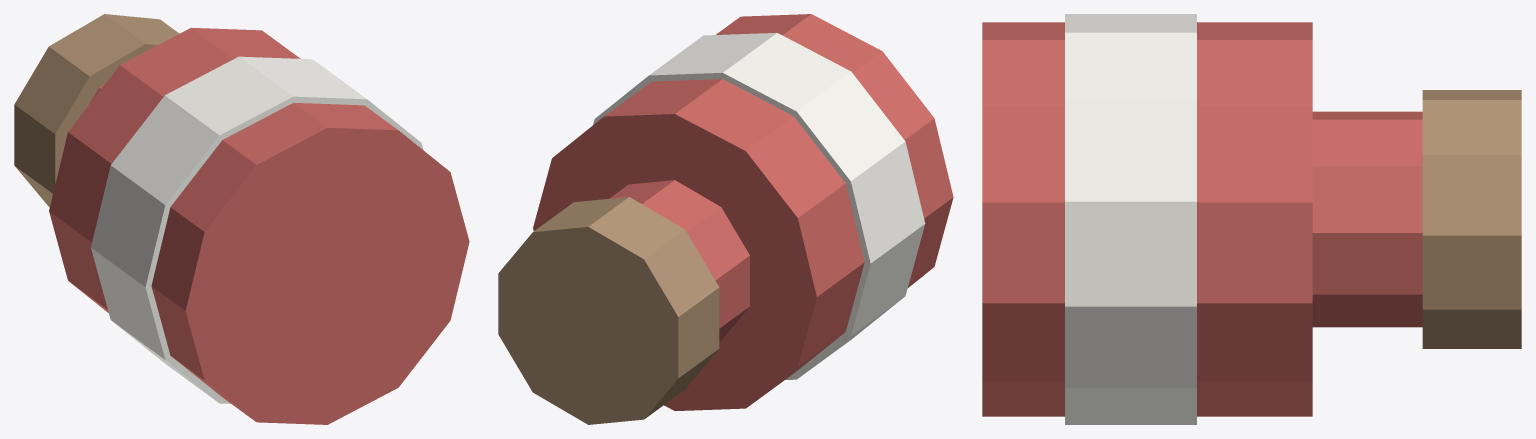
Rendered from red_dye_held.gltf.
3 views of the same model, side by side, from view 1: azimuth 30°, elevation 25°; view 2: azimuth 150°, elevation 25°; view 3: azimuth 270°, elevation 25° (orthographic). The views are drawn at different scales.
Visible parts, largest first — view 1: colors_red_dye_held; view 2: colors_red_dye_held; view 3: colors_red_dye_held.
Part boxes in pixels (x1,y1,x2,y2): colors_red_dye_held: [14, 14, 469, 424]; colors_red_dye_held: [498, 14, 953, 424]; colors_red_dye_held: [982, 14, 1521, 424].
Size of the model in its own units: 0.075 by 0.075 by 0.098.
